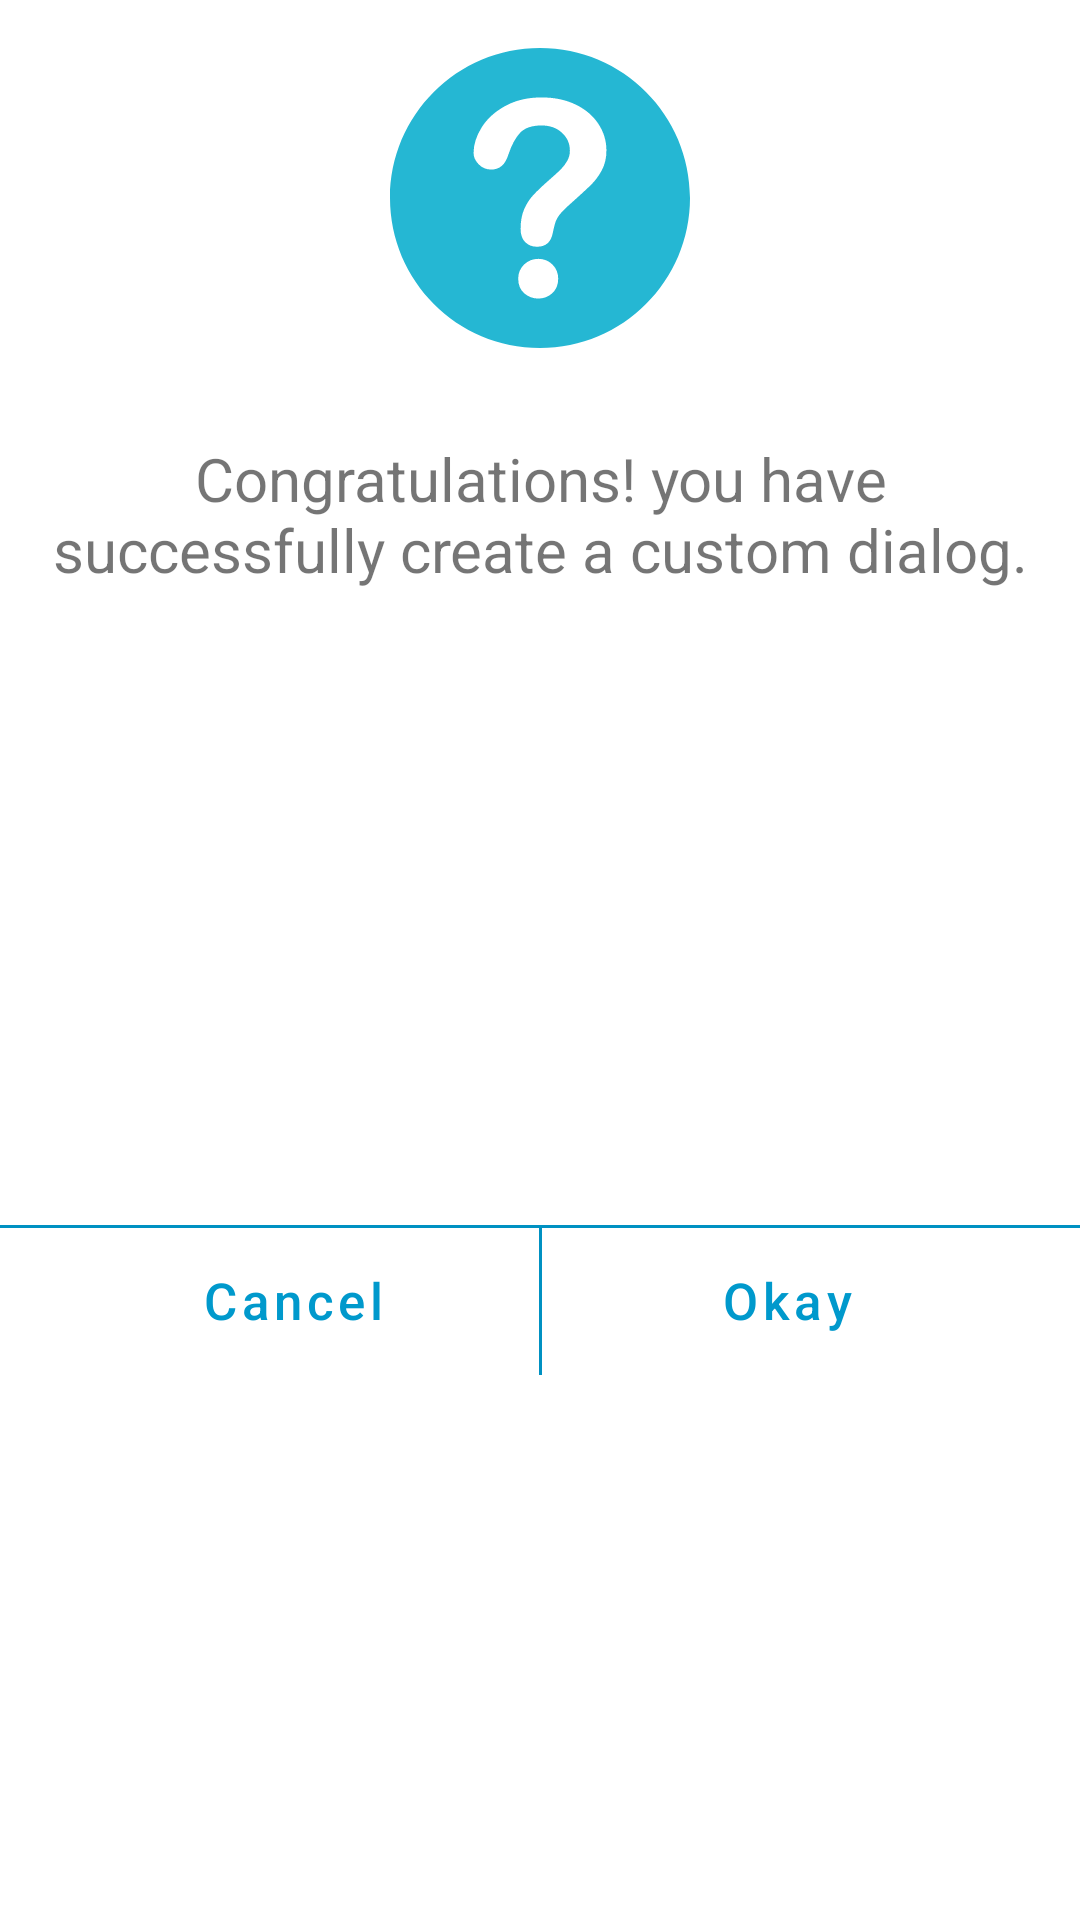

Screen size 1080×1920. Icon name, then its box in pixels as (x1, y1, x2, y2):
question: (390, 48, 690, 348)
